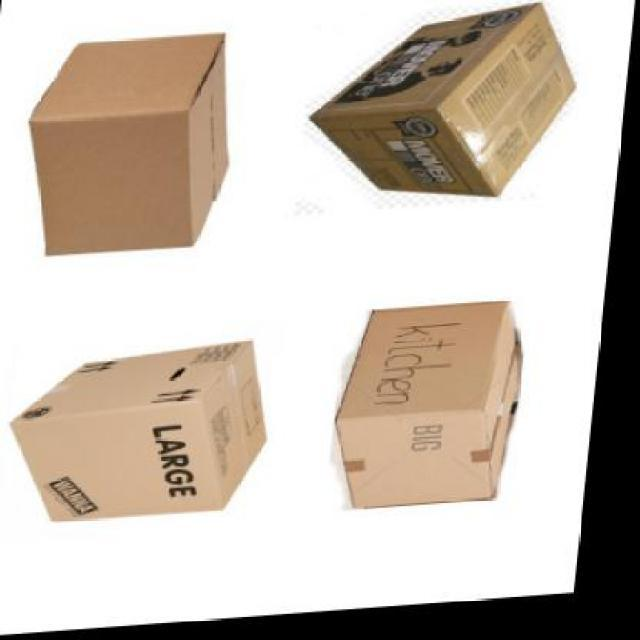box: (304, 8, 588, 212), (16, 342, 284, 526), (23, 35, 242, 258), (343, 308, 532, 514)
